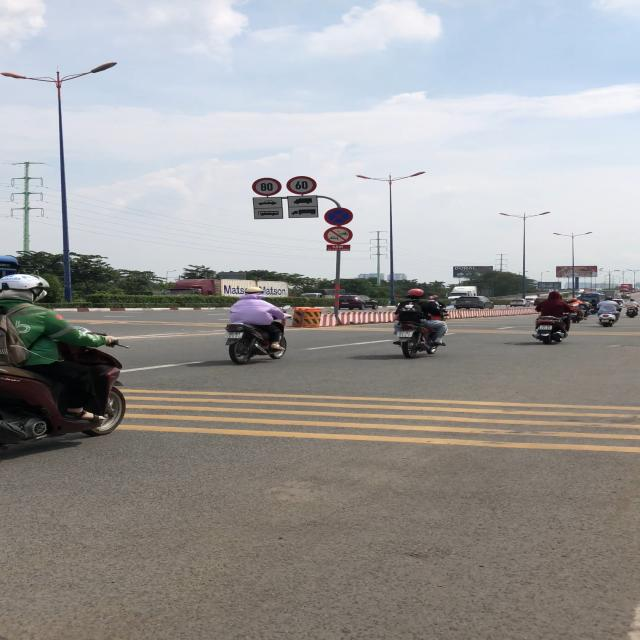Bien bao cam dung xe va do xe: (323, 207, 355, 226)
Bien bao toc do toi da cho phep: (250, 176, 285, 196), (285, 175, 318, 196)
